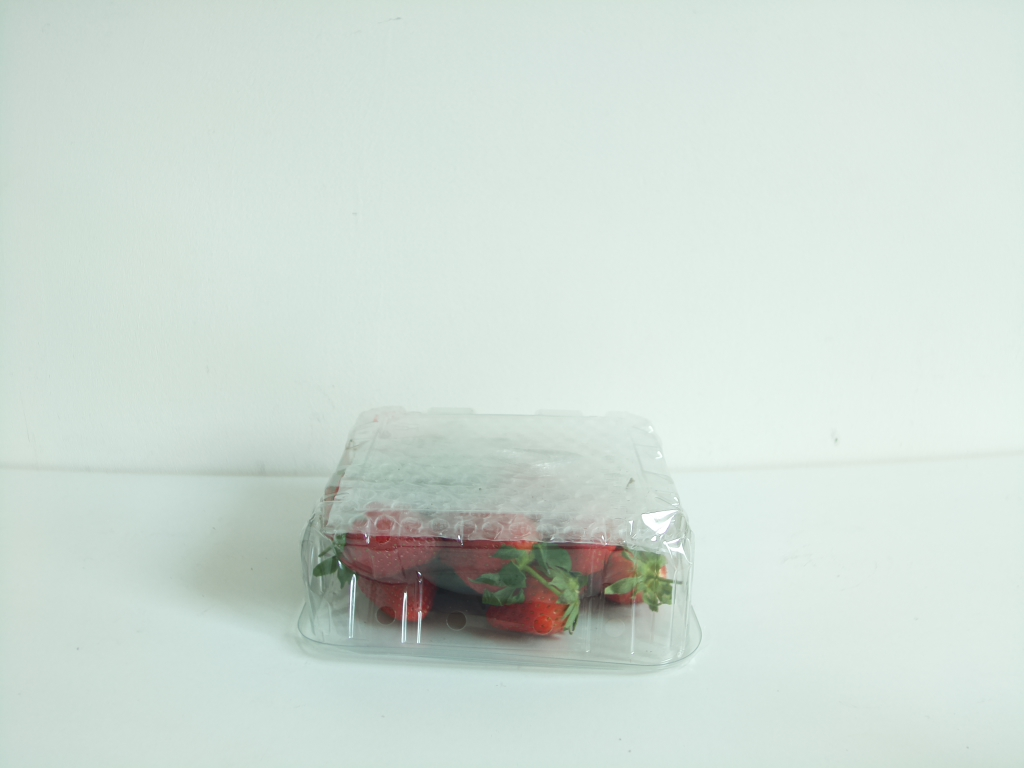soft-fruit: (280, 401, 710, 675)
